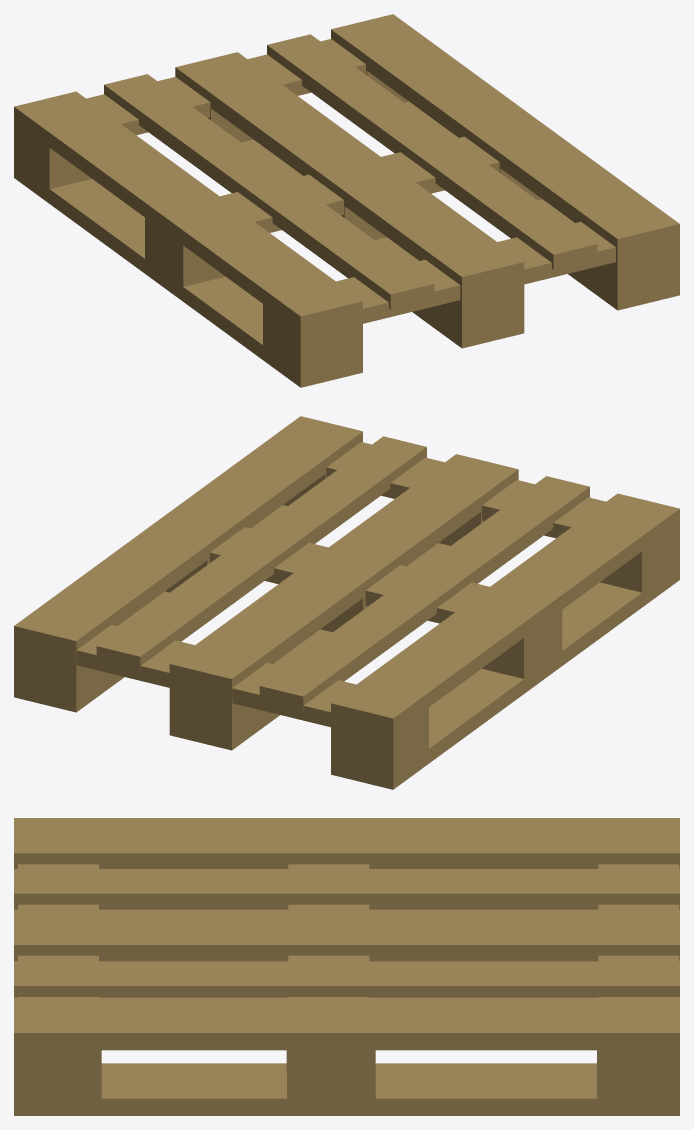
File: pallet.fbx
3 renders of one model, top to bottom at view 1: azimuth 30°, elevation 25°; view 2: azimuth 150°, elevation 25°; view 3: azimuth 270°, elevation 25°, orthographic. The views are drawn at different scales.
Visible parts, largest first — view 1: Cube_7; view 2: Cube_7; view 3: Cube_7.
Boxes of the visible parts, x1,y1,x2,y2 form: Cube_7: [14, 14, 679, 387]; Cube_7: [14, 416, 679, 789]; Cube_7: [14, 818, 679, 1115].
Size of the model in its own units: 113 by 20.35 by 148.
